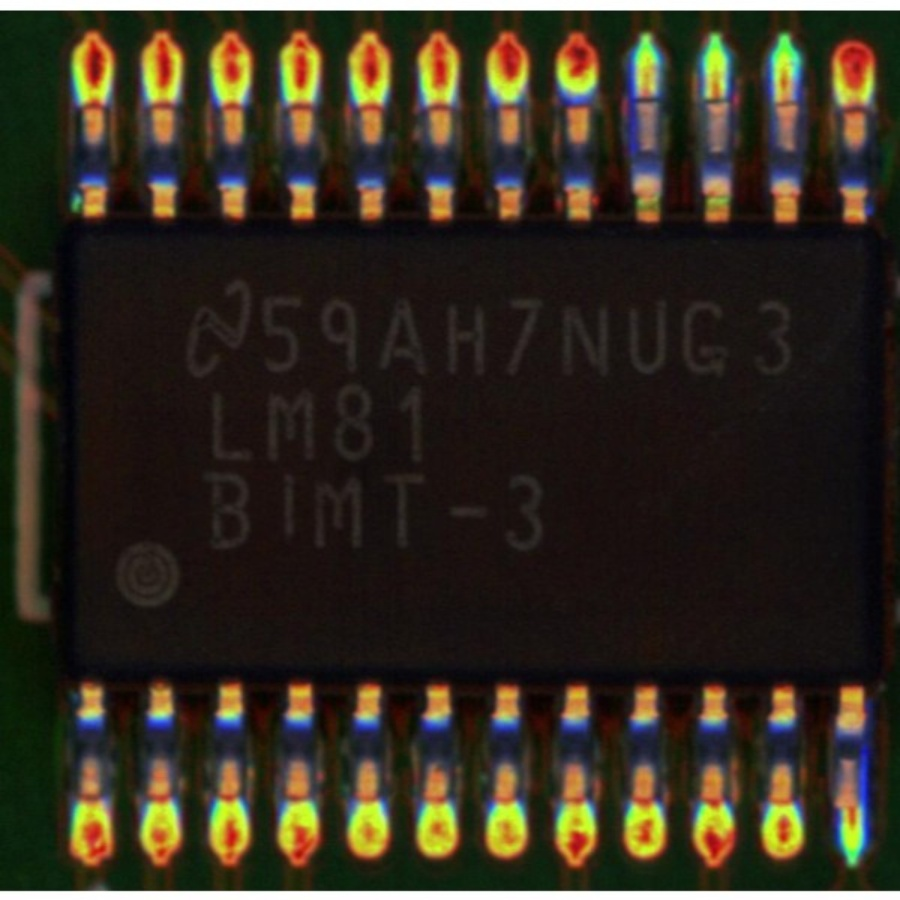Bad_podu: (776, 66, 796, 120), (637, 76, 658, 116), (709, 73, 727, 117), (843, 788, 860, 831), (844, 92, 866, 125)
